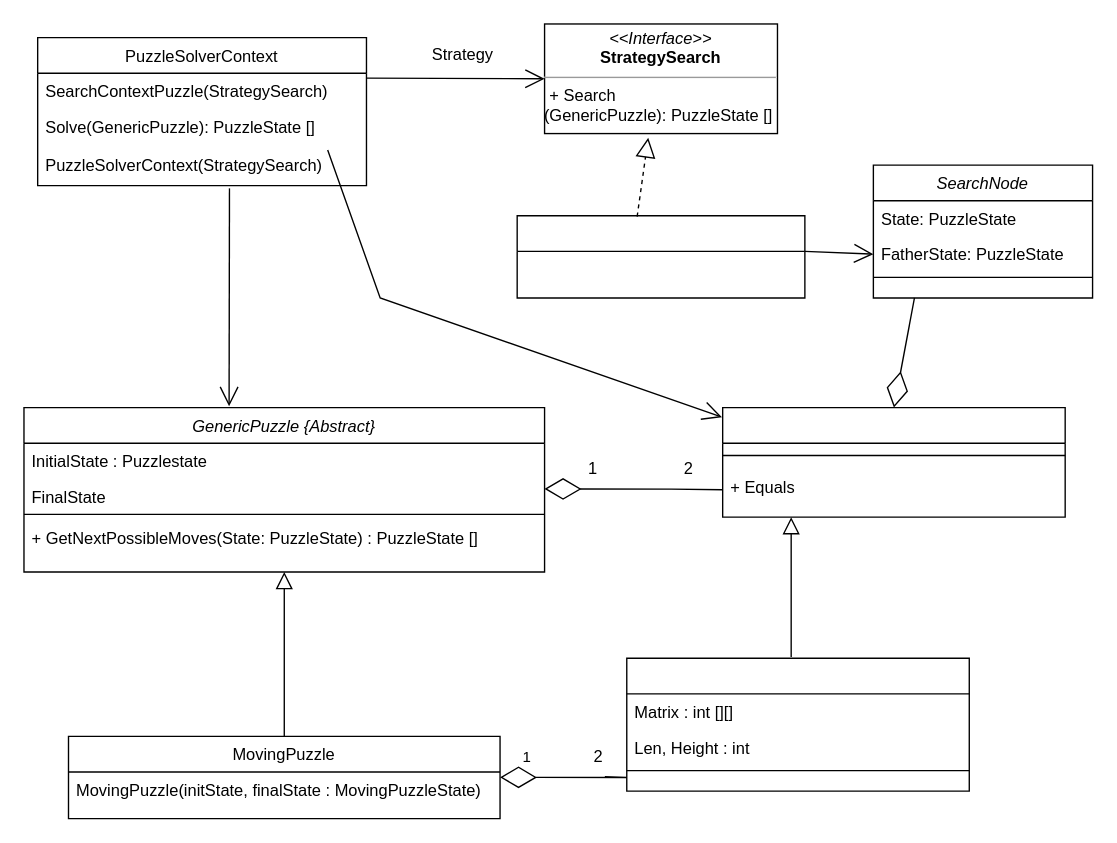
The diagram is 1117 pixels wide and 843 high, and some of its shapes have lost their labels. The box of each missing label's shape, as (x1, y1, x2, y2) in pixels:
MovingPuzzleState: (625, 657, 969, 791)
PuzzleState {Abstract}: (721, 406, 1065, 517)
SearchBFS: (516, 214, 805, 298)
